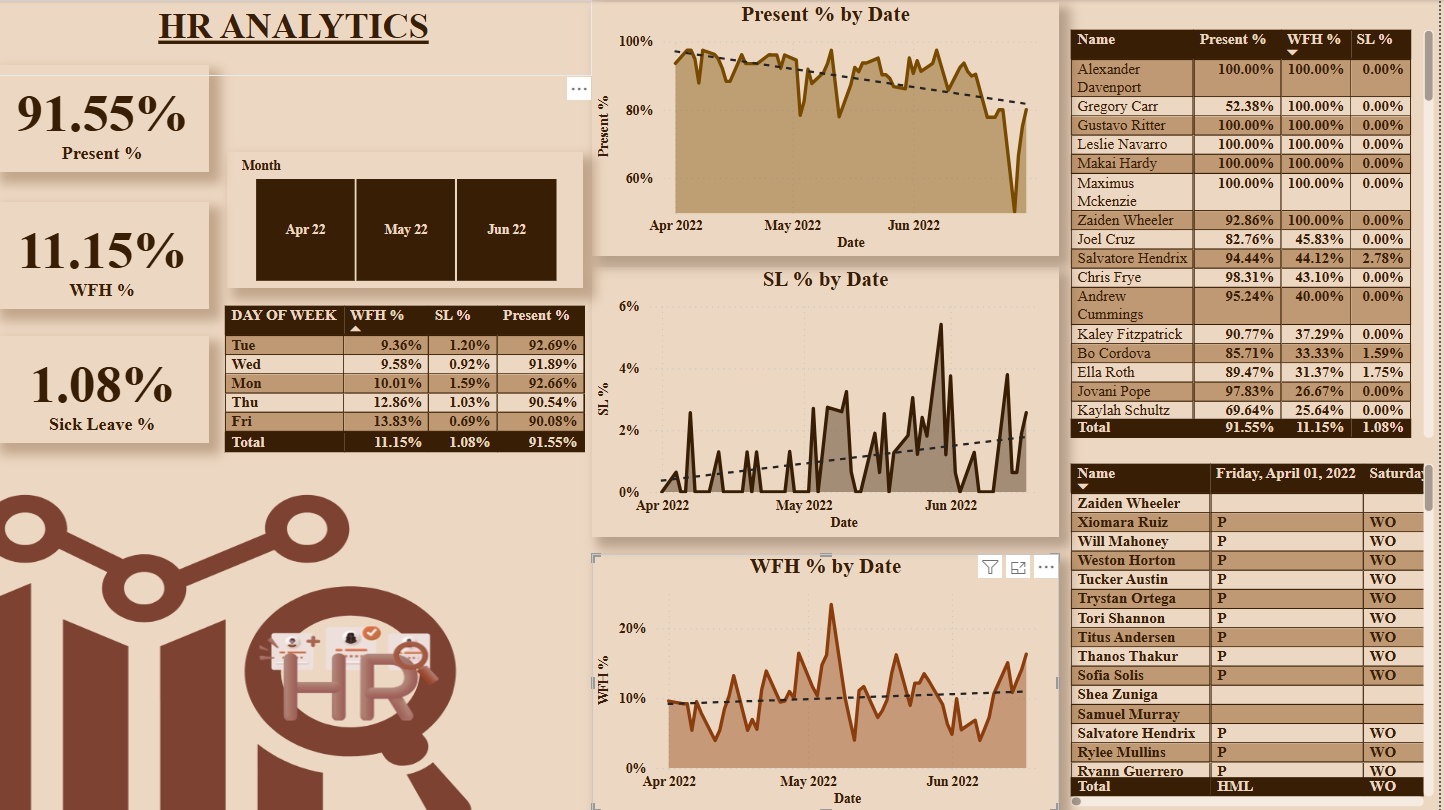

The page's visual inventory and layout, read from the dashboard file:
{"tool":"powerbi","page":{"name":"Page 1","canvas":[1280,720],"ordinal":0},"visuals":[{"type":"card","fields":{"Values":["Measure Table.Present %"]},"box":[0,57.6,189.8,94.9],"z":0},{"type":"slicer","fields":{"Values":["final data.month"]},"box":[205.7,134.8,315.7,121.5],"z":1000},{"type":"card","fields":{"Values":["Measure Table.WFH %"]},"box":[0,179.1,189.8,94.9],"z":2000},{"type":"card","fields":{"Values":["Measure Table.SL %"]},"box":[0,297.9,189.8,94.9],"z":3000},{"type":"pivotTable","fields":{"Rows":["final data.Name"],"Values":["Measure Table.Present %","Measure Table.WFH %","Measure Table.SL %"]},"box":[948.8,21.3,331.6,371.5],"z":4000},{"type":"pivotTable","fields":{"Rows":["final data.Name"],"Values":["final data.Value"],"Columns":["final data.Date"]},"box":[948.8,406.1,331.6,313.9],"z":5000},{"type":"areaChart","fields":{"Category":["final data.Date"],"Y":["Measure Table.Present %"]},"box":[529.4,1.8,414.1,225.2],"z":6000},{"type":"areaChart","fields":{"Y":["Measure Table.WFH %"],"Category":["final data.Date"]},"box":[529.4,491.2,414.1,228.8],"z":7000},{"type":"areaChart","fields":{"Category":["final data.Date"],"Y":["Measure Table.SL %"]},"box":[529.4,236.7,414.1,238.5],"z":8000},{"type":"tableEx","fields":{"Values":["final data.DAY OF WEEK","Measure Table.WFH %","Measure Table.SL %","Measure Table.Present %"]},"box":[197.7,266,331.6,180.9],"z":10000},{"type":"textbox","box":[0,0,529.4,67.4],"z":12000}]}

Visuals, with their boxes in screenshot pixels (x1, y1, x2, y2), scaled from the page's 1280x720 canvas onto the 1444x810 screenshot:
card - Measure Table.Present %: 0, 65, 214, 172
slicer - final data.month: 232, 152, 588, 288
card - Measure Table.WFH %: 0, 201, 214, 308
card - Measure Table.SL %: 0, 335, 214, 442
pivotTable - final data.Name x Measure Table.Present %: 1070, 24, 1443, 442
pivotTable - final data.Name x final data.Value: 1070, 457, 1443, 809
areaChart - final data.Date x Measure Table.Present %: 597, 2, 1064, 255
areaChart - Measure Table.WFH % x final data.Date: 597, 553, 1064, 809
areaChart - final data.Date x Measure Table.SL %: 597, 266, 1064, 535
tableEx - final data.DAY OF WEEK x Measure Table.WFH %: 223, 299, 597, 503
textbox: 0, 0, 597, 76
